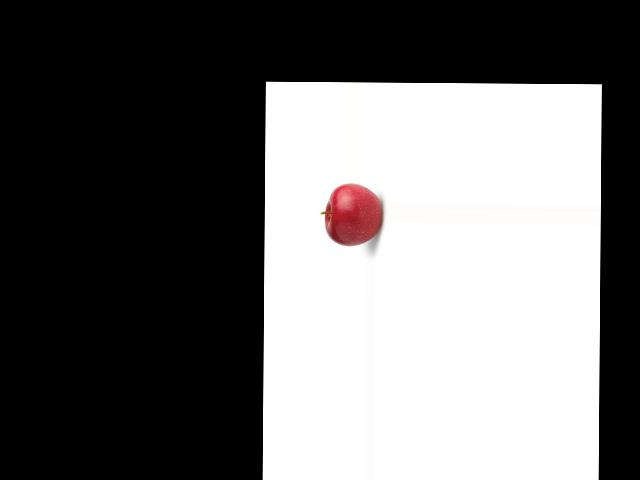apple: (319, 182, 384, 248)
